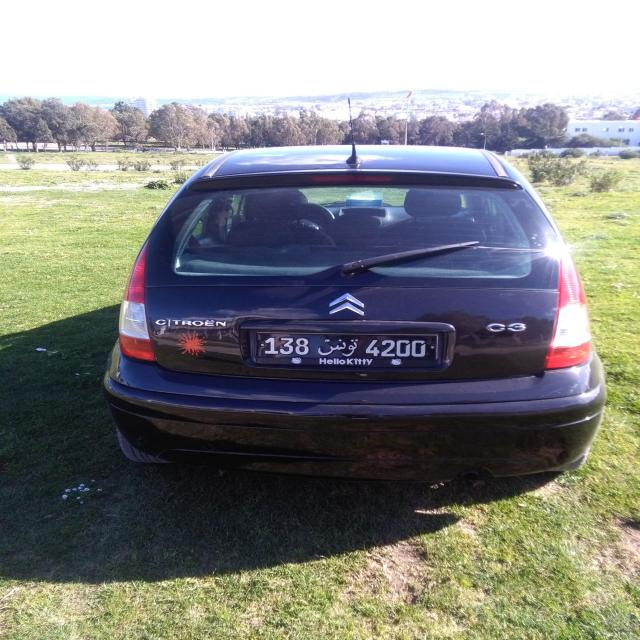LP: (253, 327, 438, 366)
